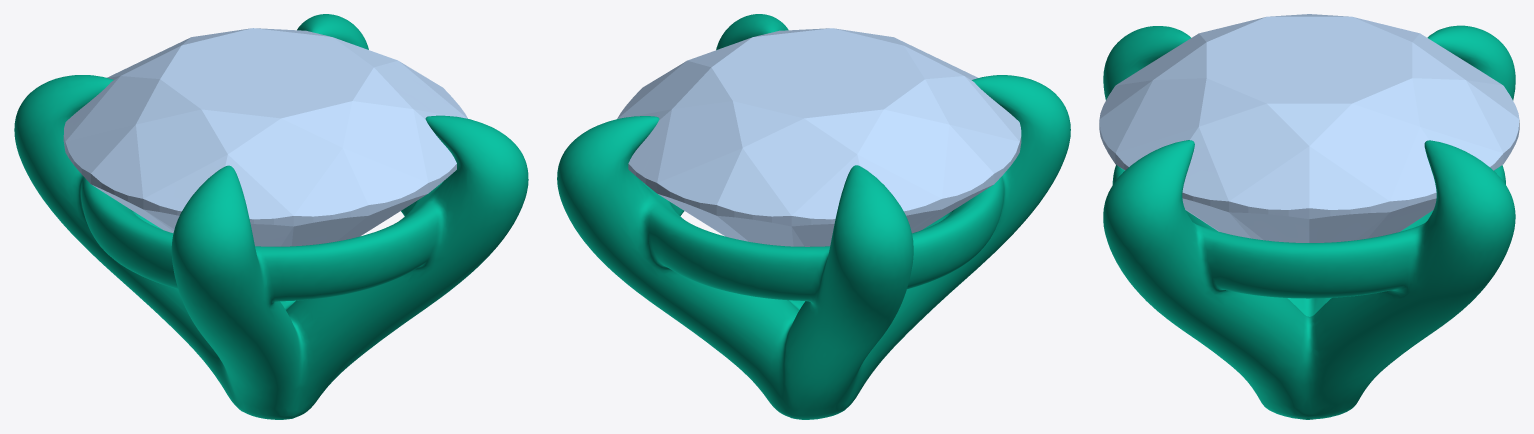
The model's file is 4 Prong Round_2.00ct.glb.
3 renders of one model, left to right at view 1: azimuth 30°, elevation 25°; view 2: azimuth 150°, elevation 25°; view 3: azimuth 270°, elevation 25°, orthographic. The views are drawn at different scales.
Visible parts, largest first — view 1: /4 Prong Round_1.00ct.3dm, Diamond_Round; view 2: /4 Prong Round_1.00ct.3dm, Diamond_Round; view 3: Diamond_Round, /4 Prong Round_1.00ct.3dm.
Part boxes in pixels (x1=…): /4 Prong Round_1.00ct.3dm: x1=14, y1=14, x2=528, y2=419; Diamond_Round: x1=63, y1=28, x2=467, y2=246; /4 Prong Round_1.00ct.3dm: x1=557, y1=14, x2=1070, y2=419; Diamond_Round: x1=617, y1=28, x2=1021, y2=246; Diamond_Round: x1=1099, y1=14, x2=1519, y2=242; /4 Prong Round_1.00ct.3dm: x1=1103, y1=25, x2=1515, y2=419.
Size of the model in its own units: 8.25 by 7.45 by 8.22.
